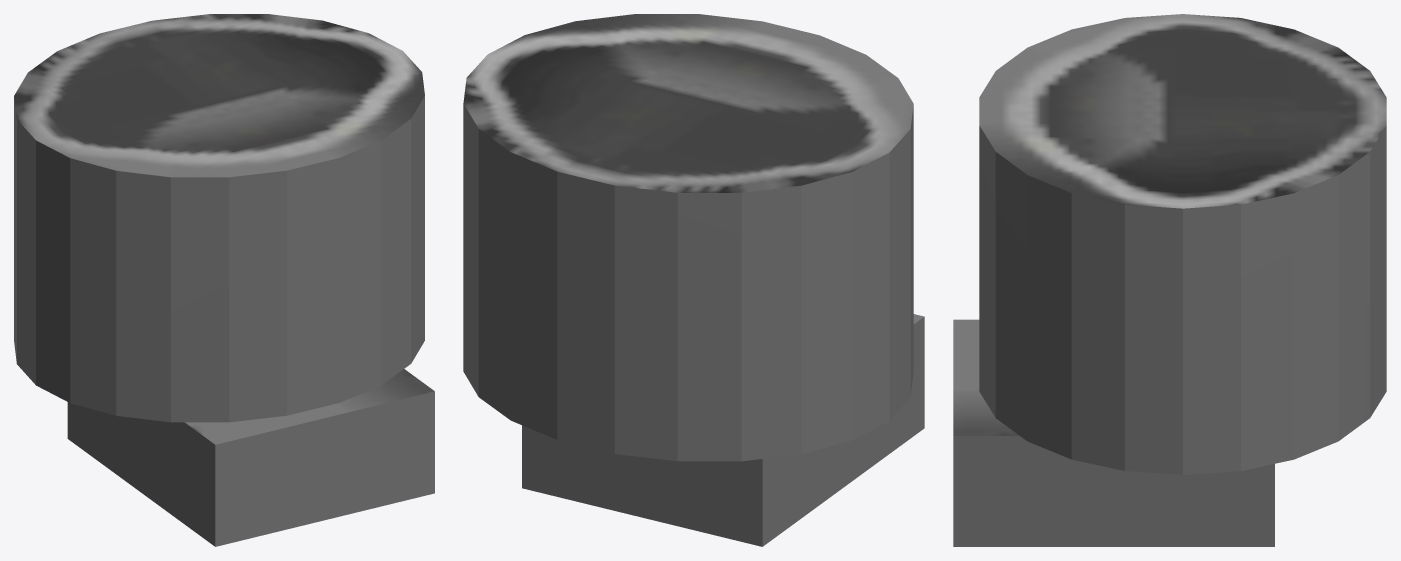
File: Building_Hopper.obj
The picture shows the model from 3 angles, left to right: view 1: azimuth 30°, elevation 25°; view 2: azimuth 150°, elevation 25°; view 3: azimuth 270°, elevation 25°; orthographic projection. The views are drawn at different scales.
Parts seen in each view (by area): view 1: Body; view 2: Body; view 3: Body.
Boxes of the visible parts, <box> form: Body: <box>14,14,434,546</box>; Body: <box>463,14,924,546</box>; Body: <box>953,14,1386,546</box>.
Size of the model in its own units: 0.94 by 0.85 by 0.8845.
1 material, 1 textured.
